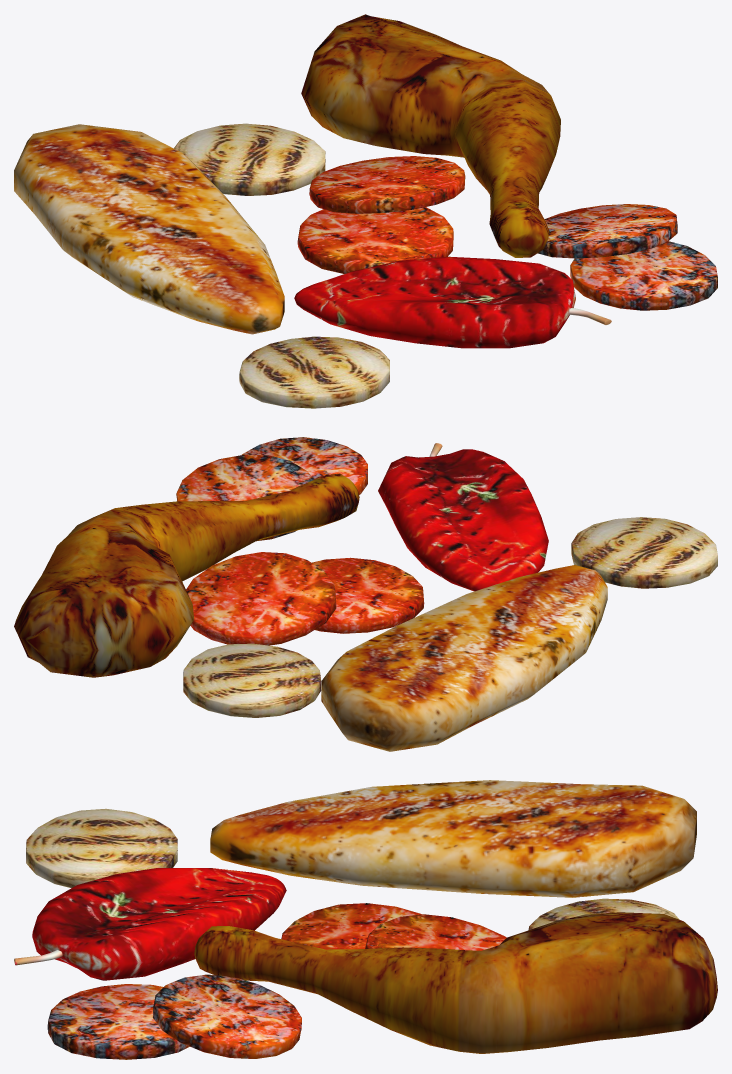
The model's file is GardenFoodGrilled01_5.FBX.
3 views of the same model, one above another, from view 1: azimuth 30°, elevation 25°; view 2: azimuth 150°, elevation 25°; view 3: azimuth 270°, elevation 25° (orthographic). The views are drawn at different scales.
Visible parts, largest first — view 1: GardenFoodGrilled01_5; view 2: GardenFoodGrilled01_5; view 3: GardenFoodGrilled01_5.
Boxes of the visible parts, box(x1,y1,x2,y2) form: GardenFoodGrilled01_5: box(14, 14, 717, 408); GardenFoodGrilled01_5: box(14, 437, 717, 751); GardenFoodGrilled01_5: box(14, 780, 717, 1059).
Size of what is drawn, in the model's own units: 0.2096 by 0.0367 by 0.2461.
